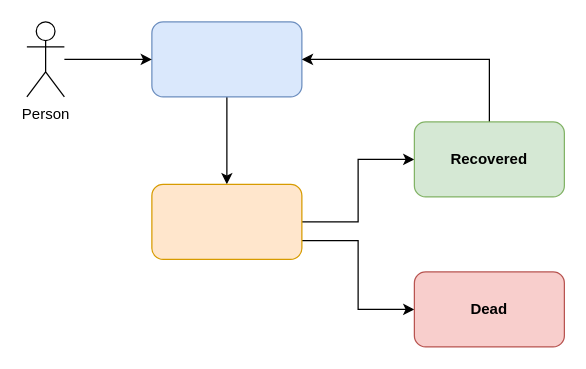
This 586x369 diagram has some shape labels left out. Here are the shapes that lost their labels. From the top down, the box of each, then its label:
(151, 21, 302, 97): Susceptible
(151, 183, 302, 259): Infected
